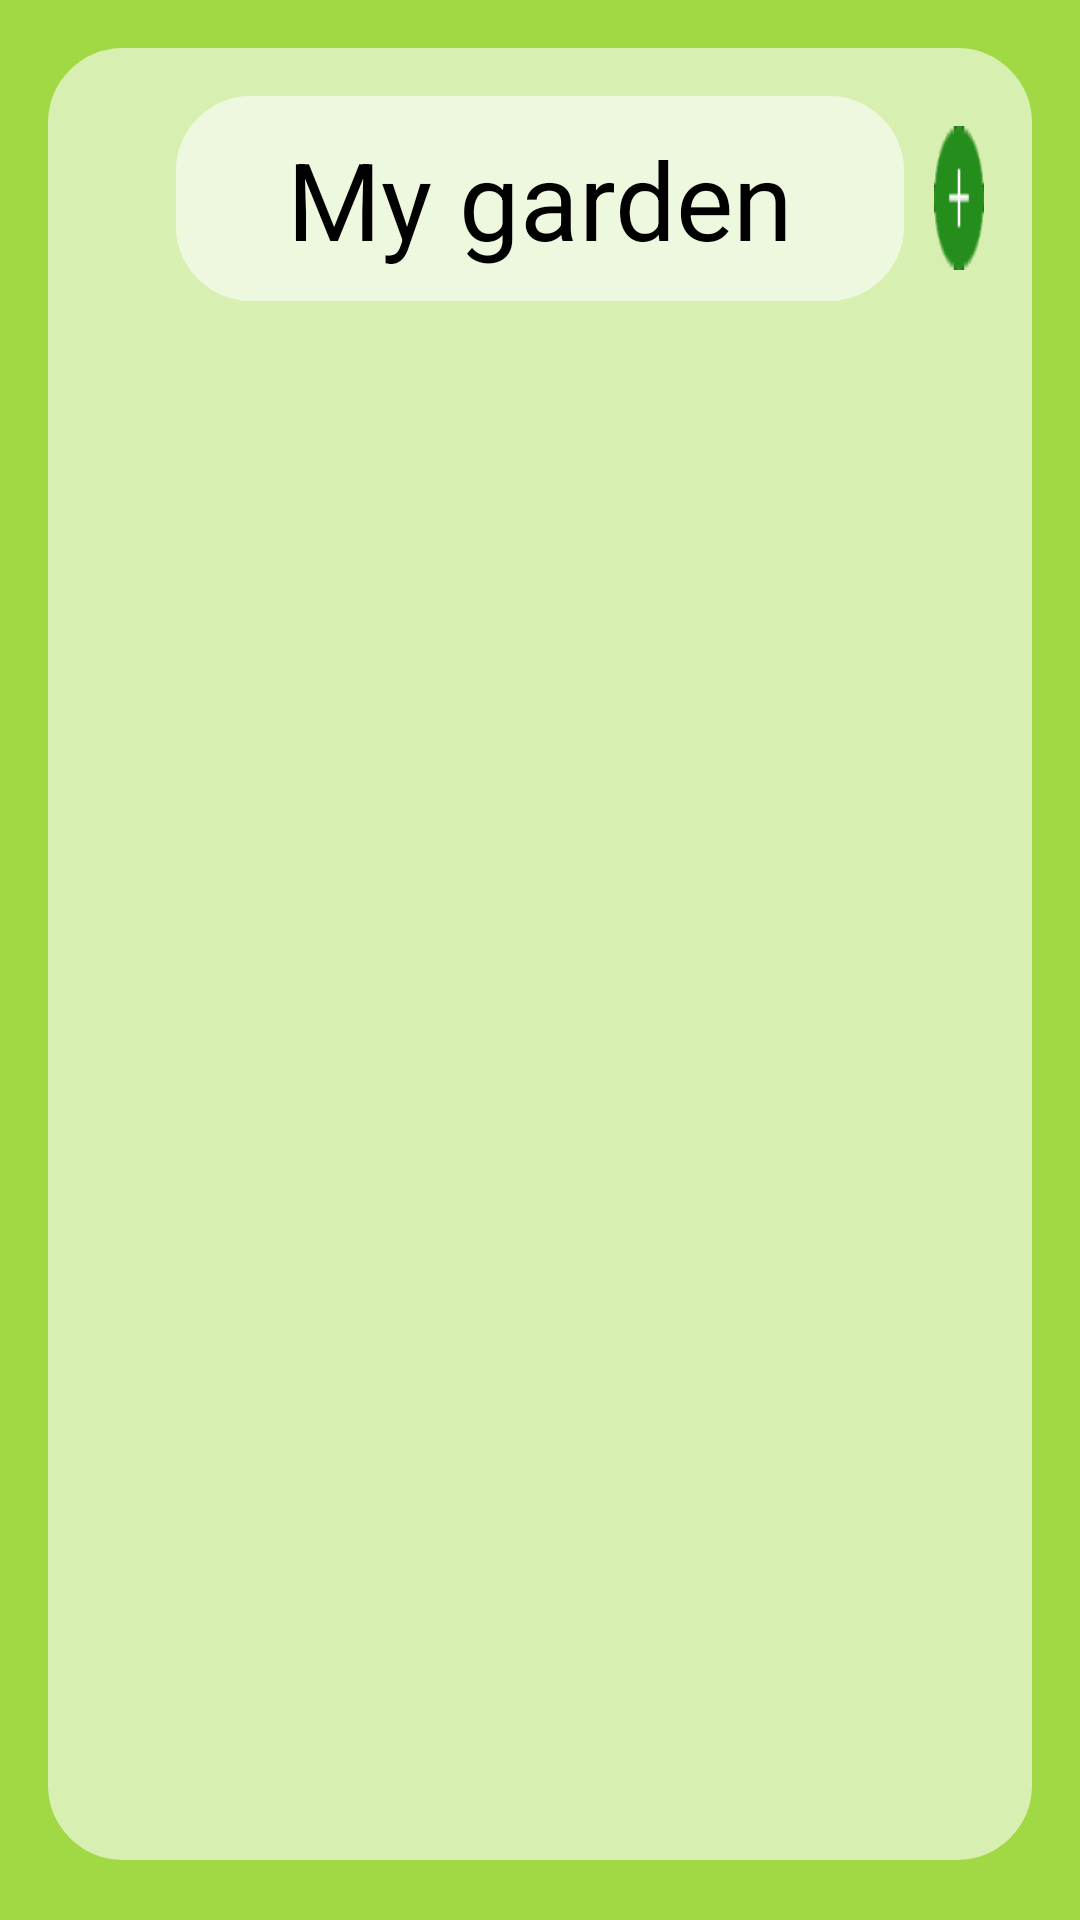

Icons on this 1080 × 1920 Android screen, each with its box as (x1, y1, x2, y2):
plus: (934, 126, 984, 270)
